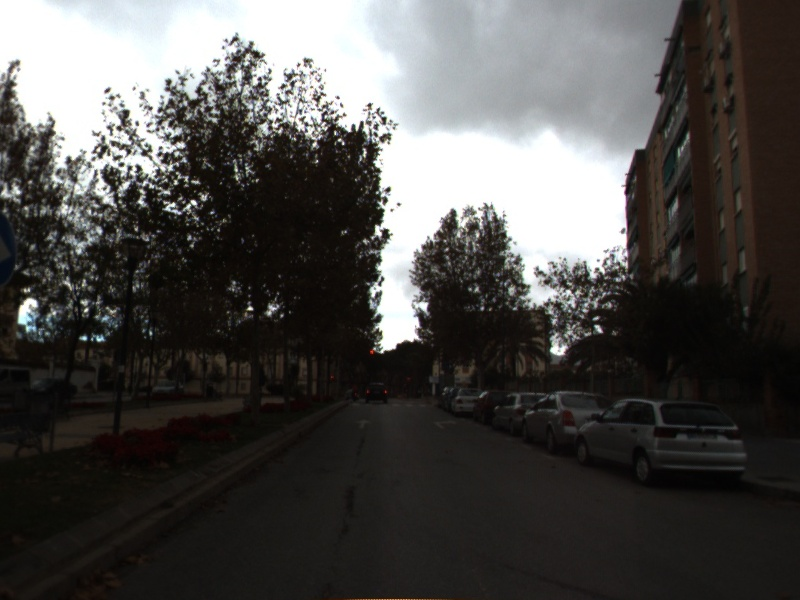RIGHT: (431, 417, 459, 431)
STRAIGHT: (352, 417, 375, 431)
